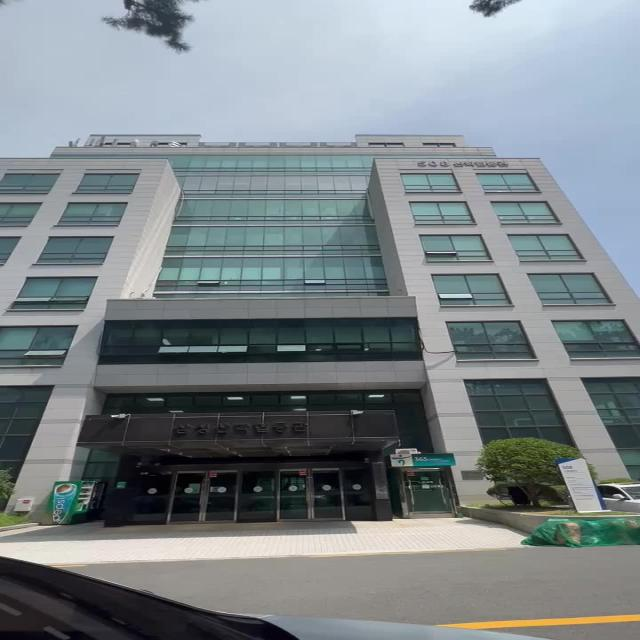building: (0, 126, 640, 493)
